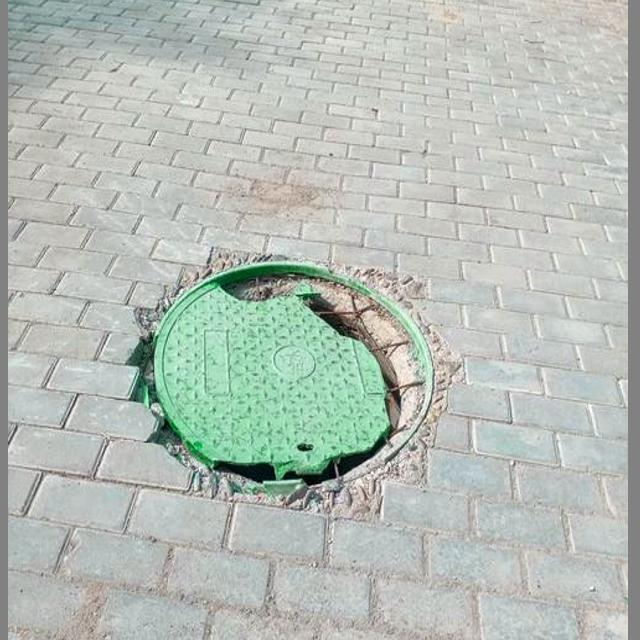broke: (118, 254, 463, 505)
